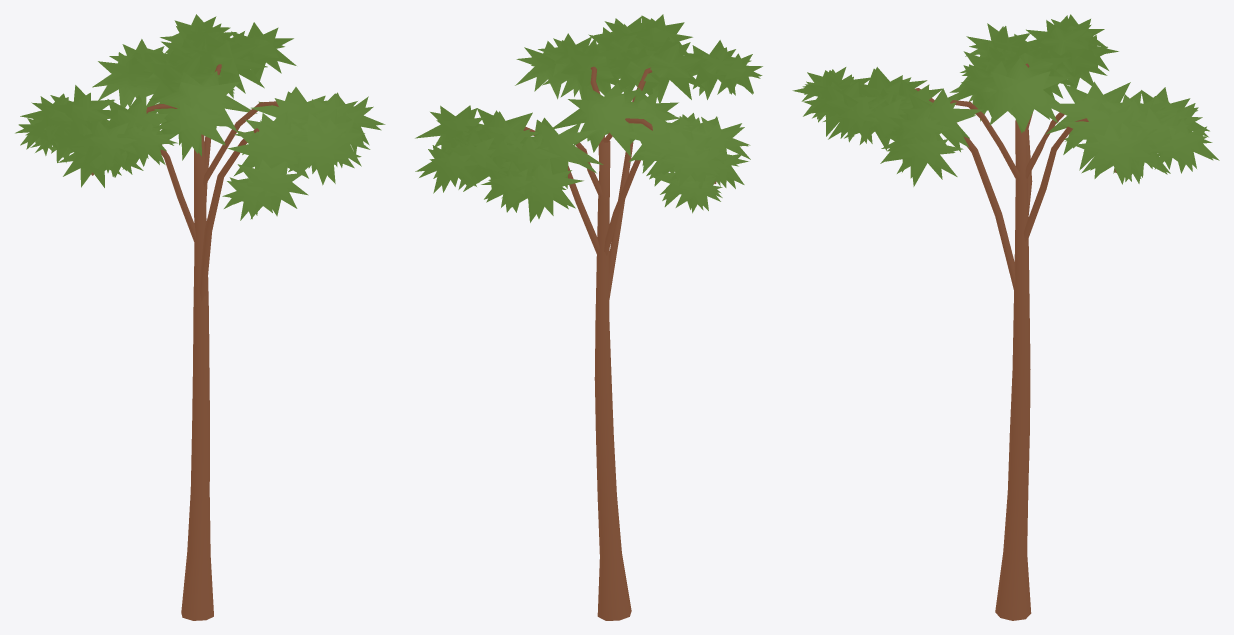
File: Blender_SlashPine_2.glb
3 views of the same model, side by side, from view 1: azimuth 30°, elevation 25°; view 2: azimuth 150°, elevation 25°; view 3: azimuth 270°, elevation 25° (orthographic). The views are drawn at different scales.
Visible parts, largest first — view 1: Blender_SlashPine_2; view 2: Blender_SlashPine_2; view 3: Blender_SlashPine_2.
Boxes of the visible parts, x1=… form: Blender_SlashPine_2: x1=15, y1=14, x2=385, y2=620; Blender_SlashPine_2: x1=415, y1=14, x2=762, y2=620; Blender_SlashPine_2: x1=792, y1=14, x2=1219, y2=620.
Bounding box in the file's own units: 10.26 × 18.22 × 12.85.
